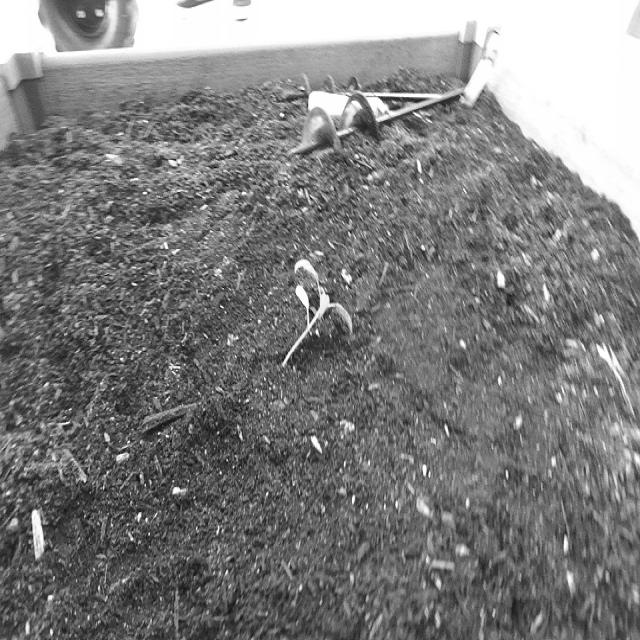Healthy: (277, 254, 358, 375)
